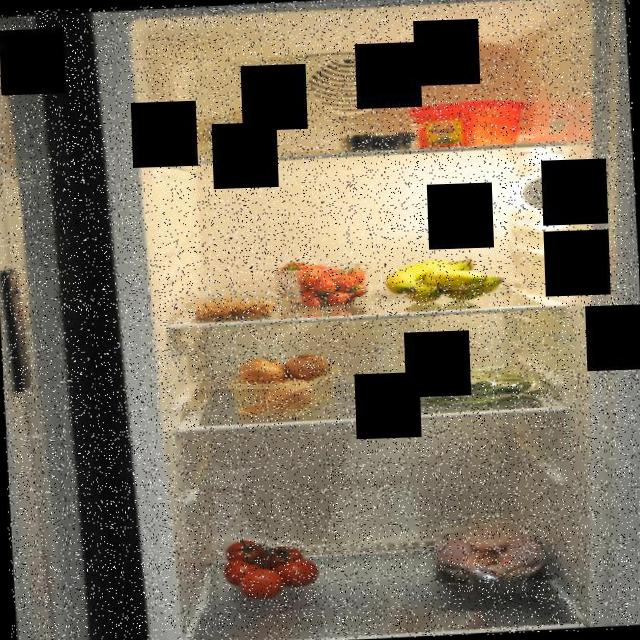Carne pollo: (426, 518, 558, 598)
Cebolla: (234, 352, 334, 414)
Champiñones: (190, 97, 288, 168)
Gambas/Langostinos: (192, 292, 274, 323)
Mantequilla: (405, 96, 529, 150)
Plátano: (380, 254, 510, 306)
Tomate: (218, 532, 324, 602)
